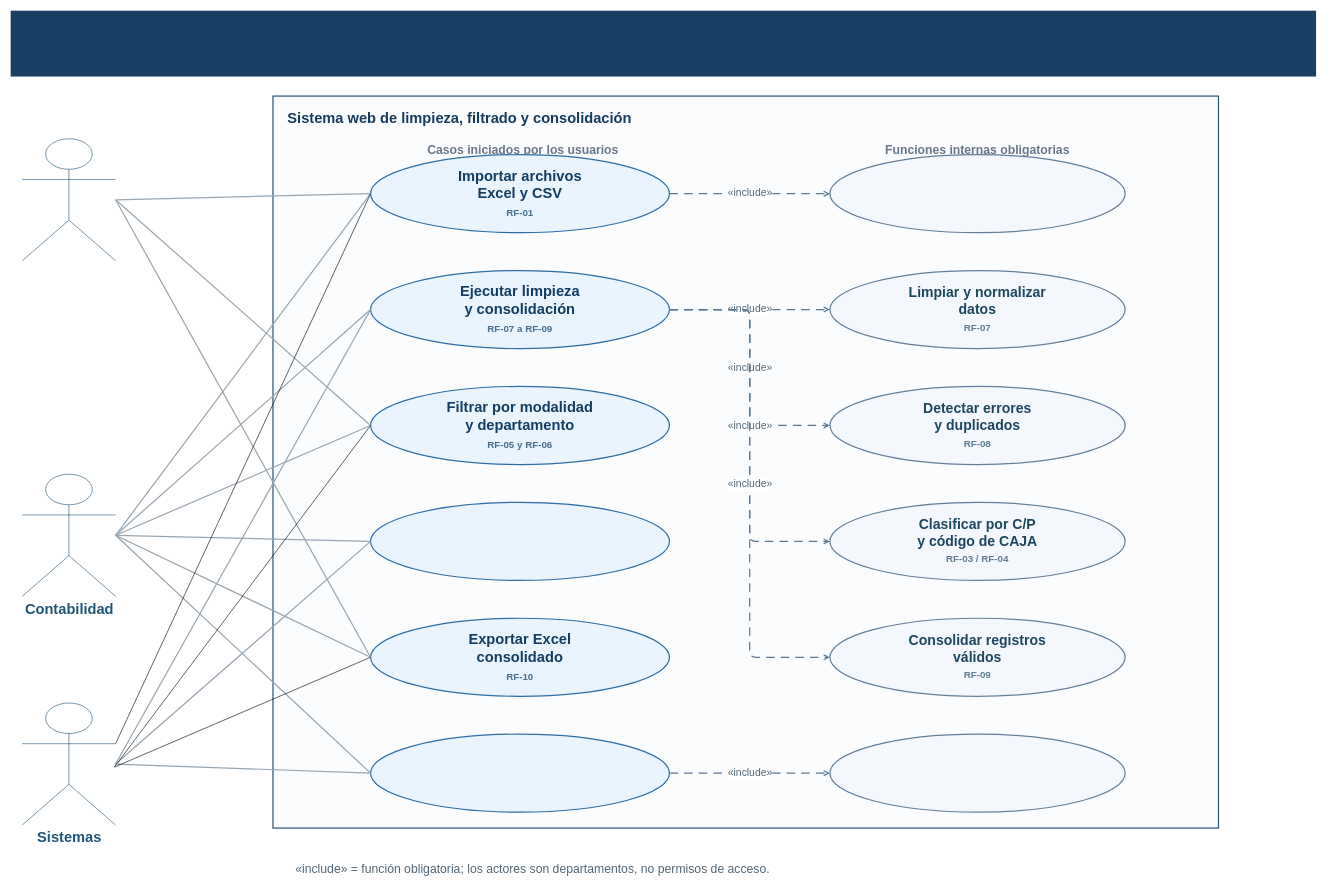
Image size: 1326x891. Some labels were removed from this diagram. Here are the shapes that lost their labels. From the top down, the box of each, then its label:
(10, 10, 1316, 76): DIAGRAMA UML DE CASOS DE USO — 3 ACTORES
(22, 138, 116, 261): Cajas
(829, 154, 1125, 233): Validar columnas y estructura RF-02
(370, 501, 670, 581): Consultar resumen del procesamiento RF-12
(370, 733, 670, 813): Descargar reporte de observaciones RF-11
(829, 733, 1125, 813): Generar reporte de observaciones RF-11
